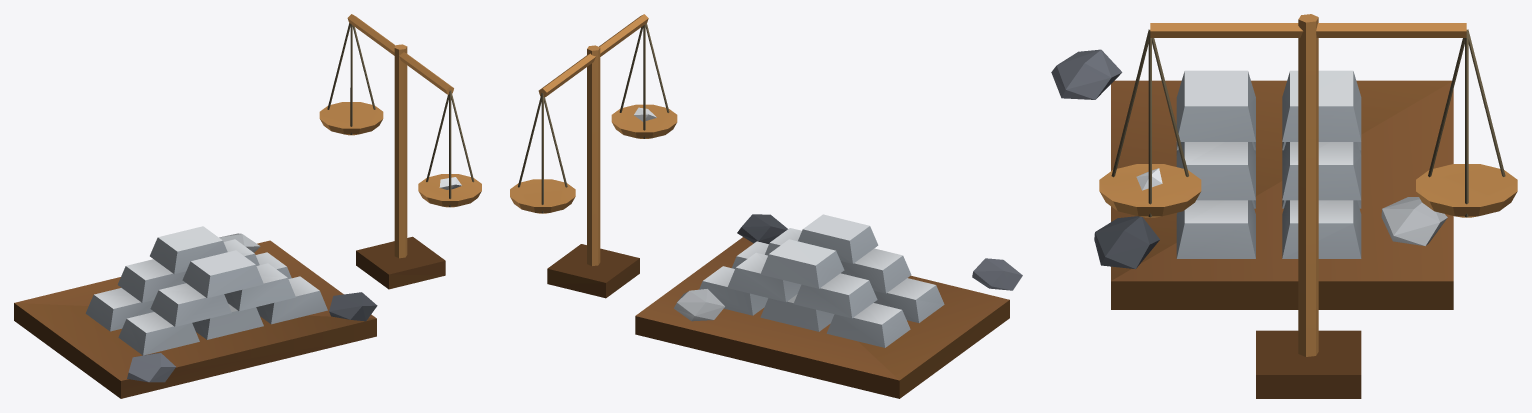
3 renders of one model, left to right at view 1: azimuth 30°, elevation 25°; view 2: azimuth 150°, elevation 25°; view 3: azimuth 270°, elevation 25°, orthographic. The views are drawn at different scales.
Visible parts, largest first — view 1: base; view 2: base; view 3: base.
Part boxes in pixels (box(x1,y1,x2,y2)): base: box(14, 14, 481, 398); base: box(510, 14, 1022, 398); base: box(1051, 14, 1517, 398).
Bounding box in the file's own units: 0.5235 × 0.3 × 0.3538.
